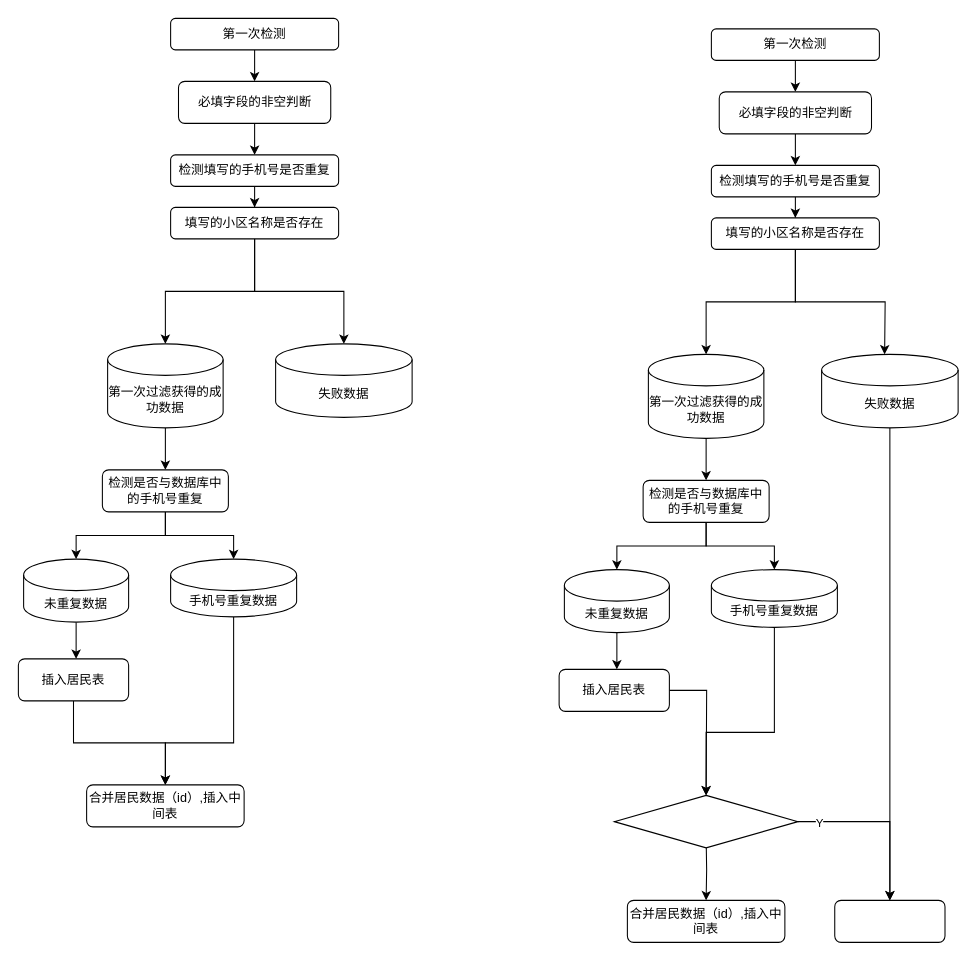
The diagram is 976 pixels wide and 961 high, and some of its shapes have lost their labels. The centre of each missing label's shape, as x and y in pixels:
写入导入失败记录: the point at 889,920
检测是否重复插入过成员: the point at 705,821
